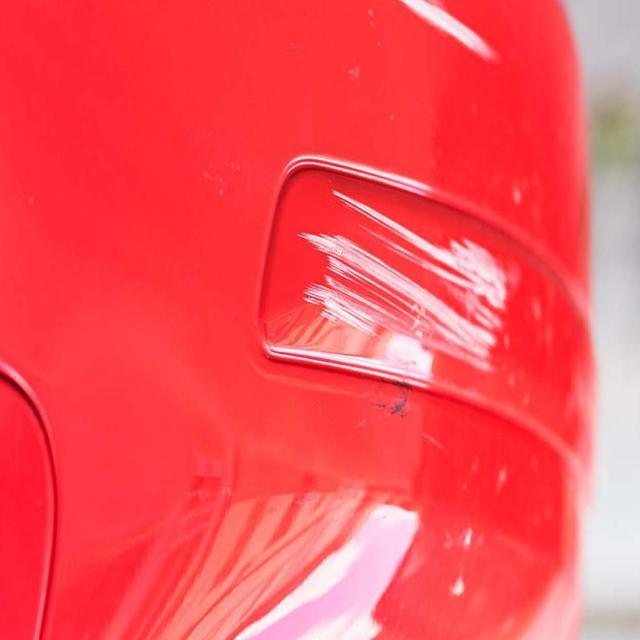scratch: (264, 179, 514, 397)
